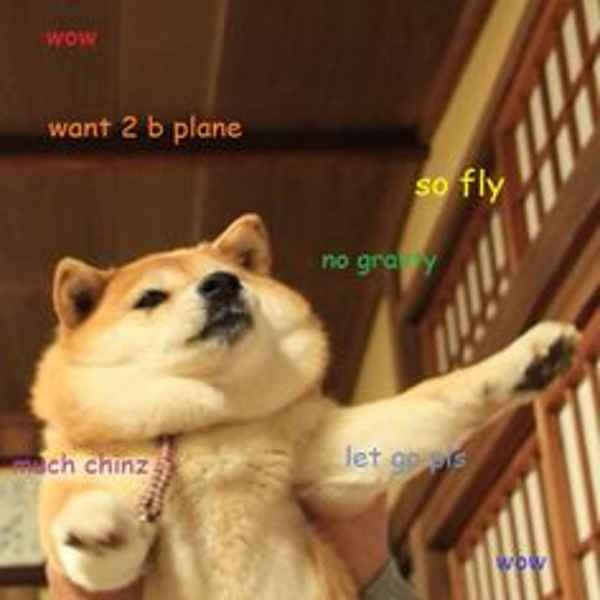doge: (38, 215, 324, 436)
